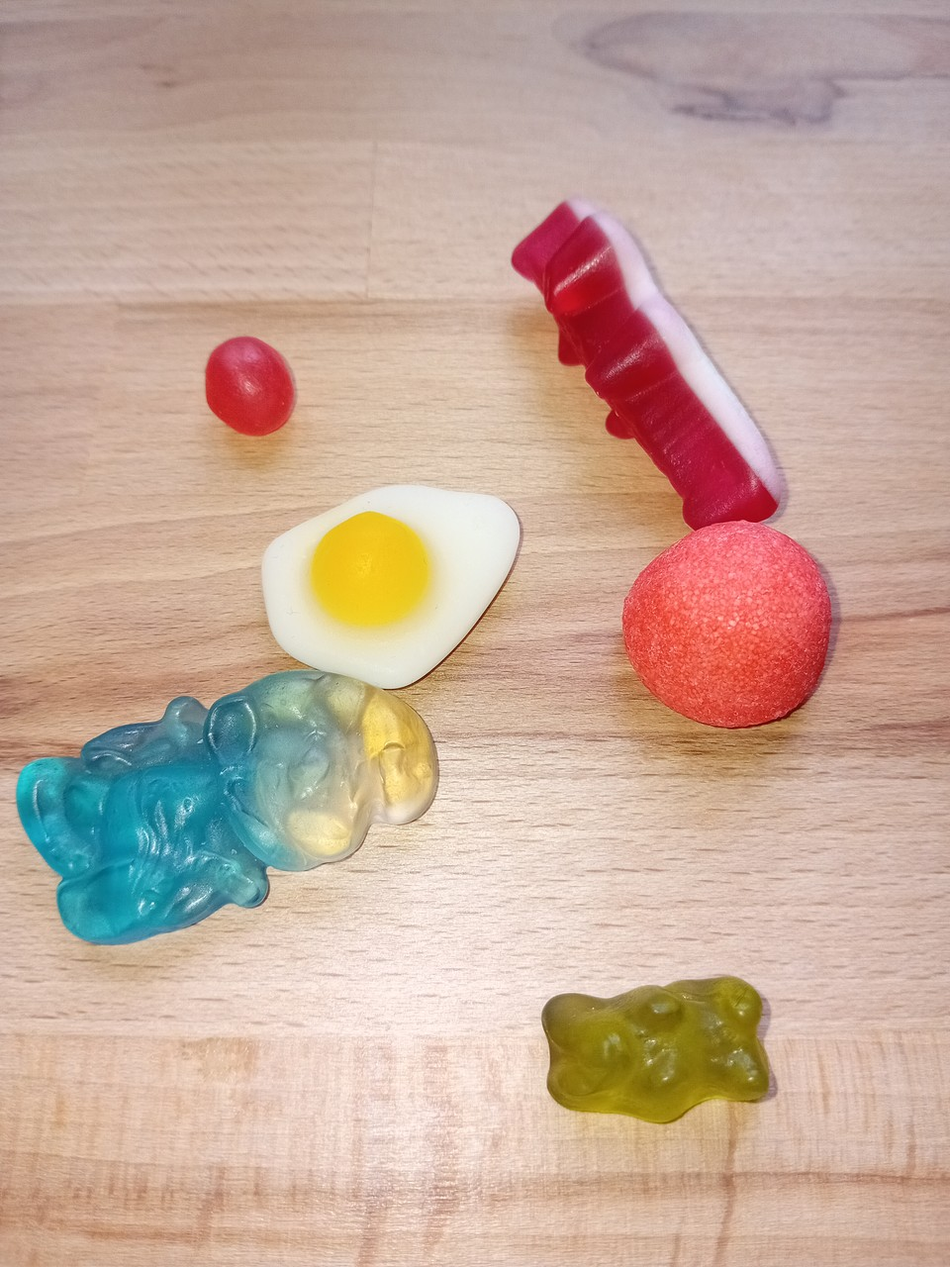crocodile_rouge: (507, 193, 790, 536)
dragibus_rouge: (193, 326, 304, 439)
oeuf_oeuf: (255, 473, 525, 695)
ourson_vert: (534, 968, 779, 1127)
schtroumpf_bleu-blanc: (13, 664, 444, 954)
tagada_fraise: (619, 517, 831, 729)
